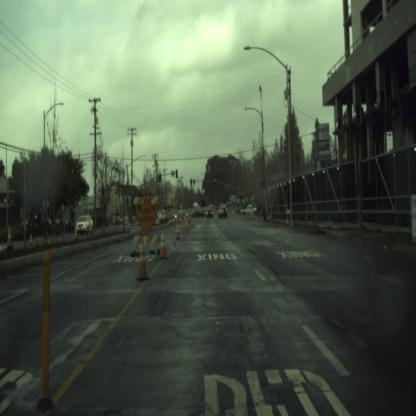Red: (203, 178, 205, 185), (214, 178, 216, 185), (190, 179, 192, 185), (240, 192, 242, 198)
